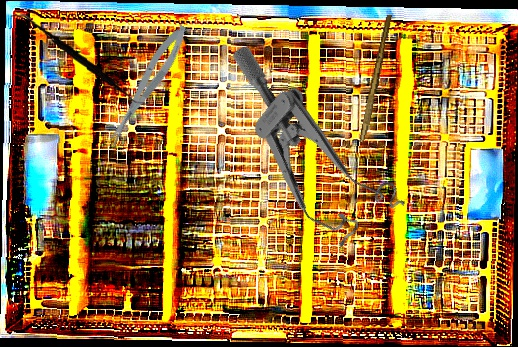Micro Scissor: (99, 20, 194, 150)
Scalpel Handle: (359, 13, 393, 144)
Spatula Surgical: (5, 13, 155, 108)
Speculum: (180, 42, 421, 263)
